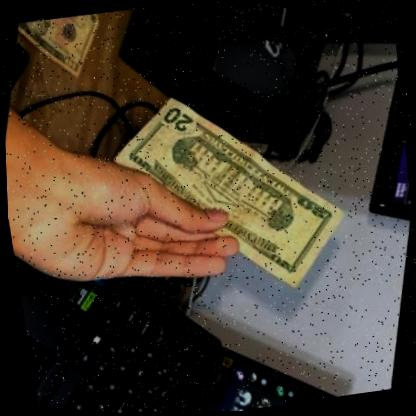ten-front: (3, 10, 113, 89)
twenty-back: (67, 54, 385, 325)
